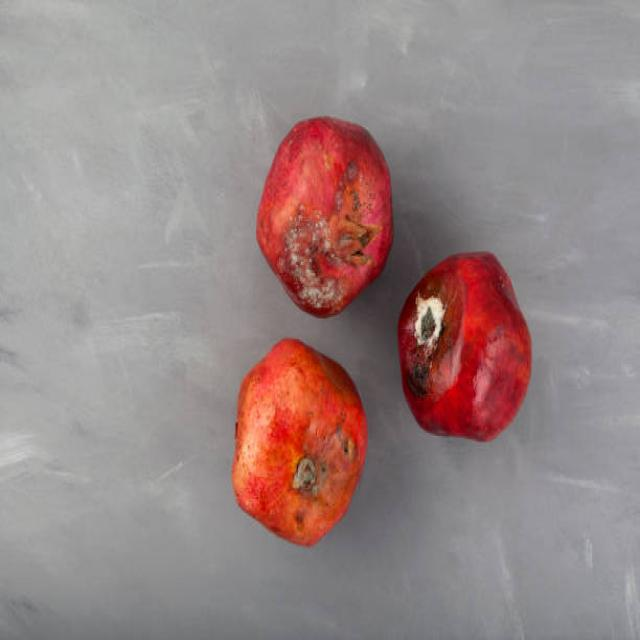Rotten: (256, 116, 396, 320), (396, 250, 532, 440)
